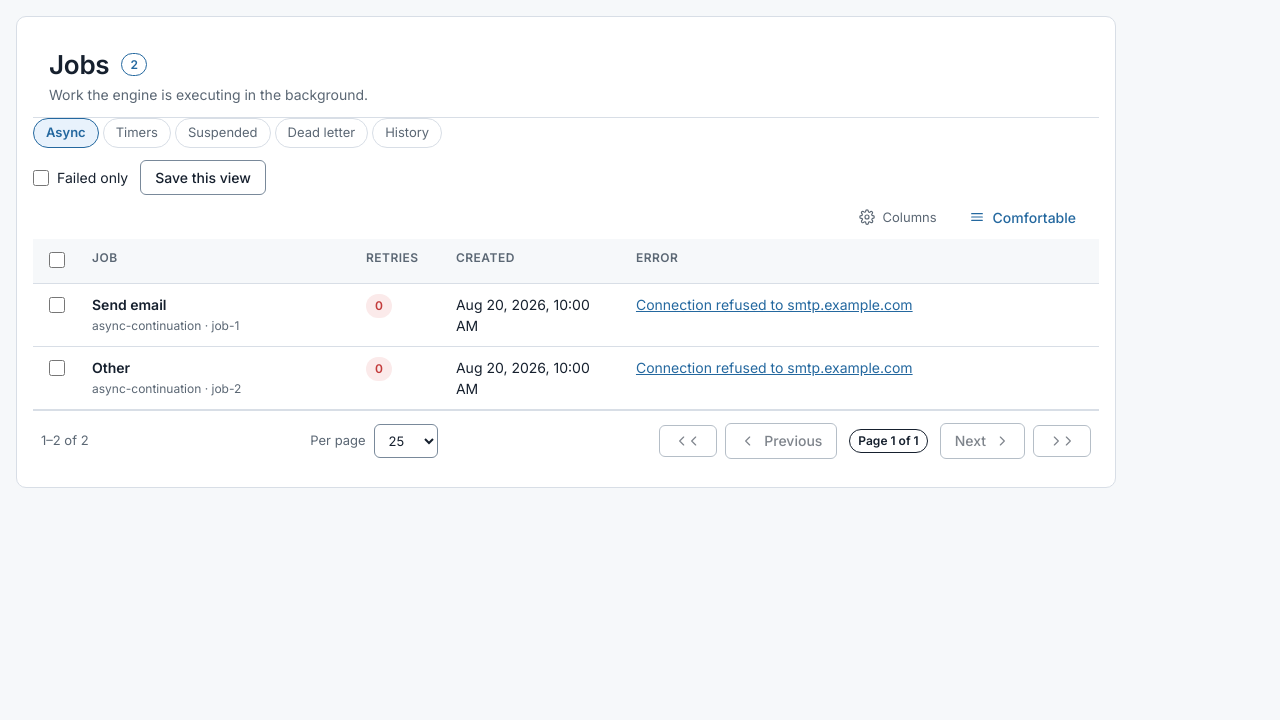
Scenario: Jobs › reports partial failure honestly instead of claiming success
Expected: the text "Send email" is shown, [92,296,166,313]
Click the checkbox named "select all jobs on this page".
click(57, 260)  # box [49,252,65,268]
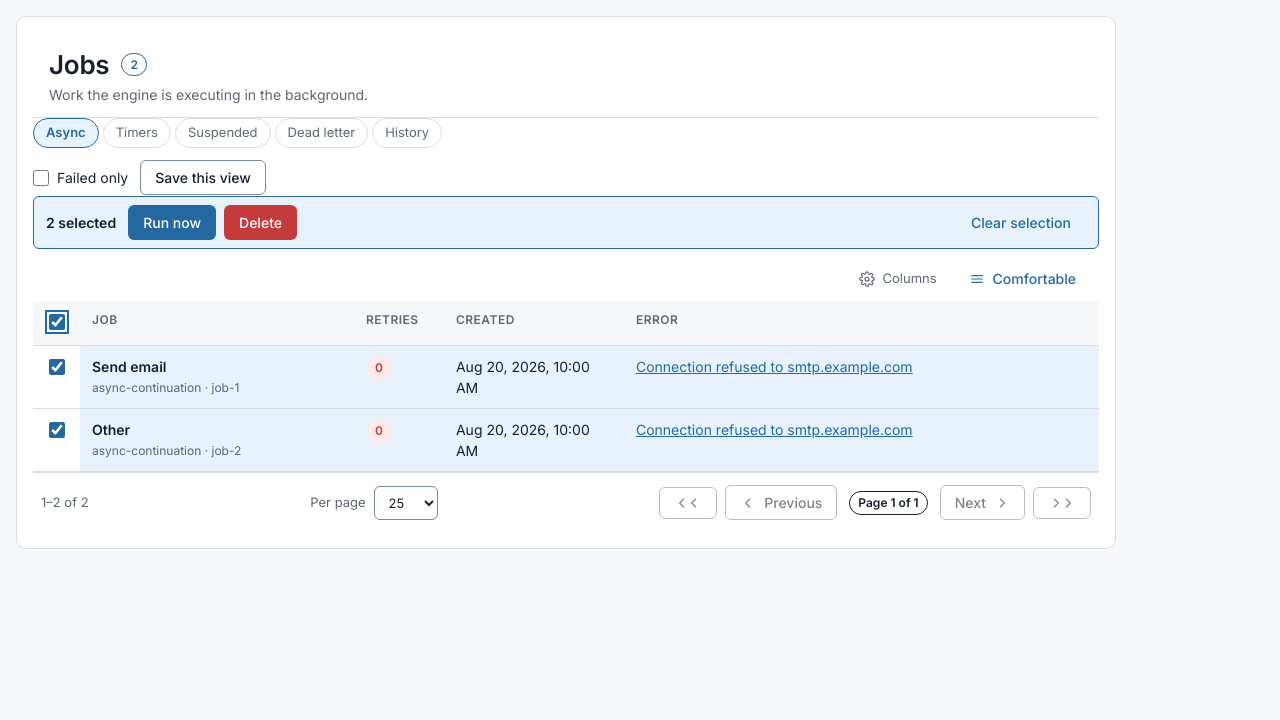
Click the button "Run now".
click(172, 222)  # box [128,205,216,240]
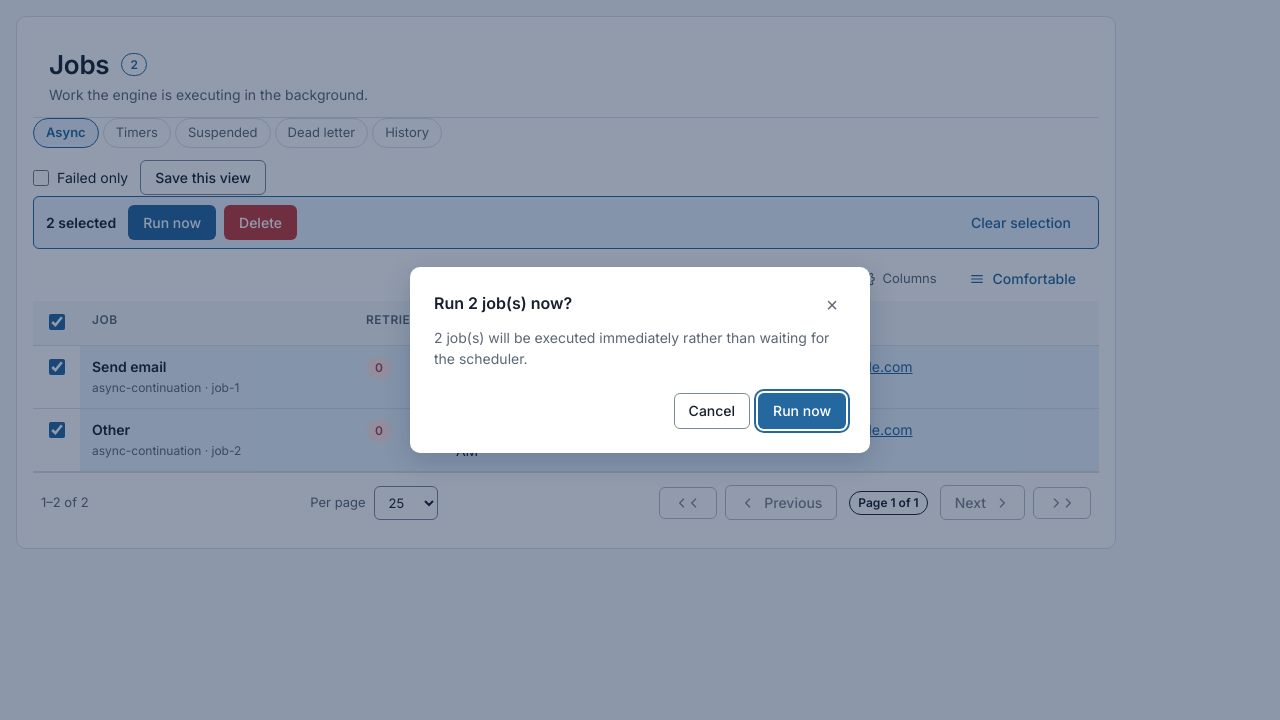
Click the button "Run now".
click(802, 411)  # box [758,393,846,429]
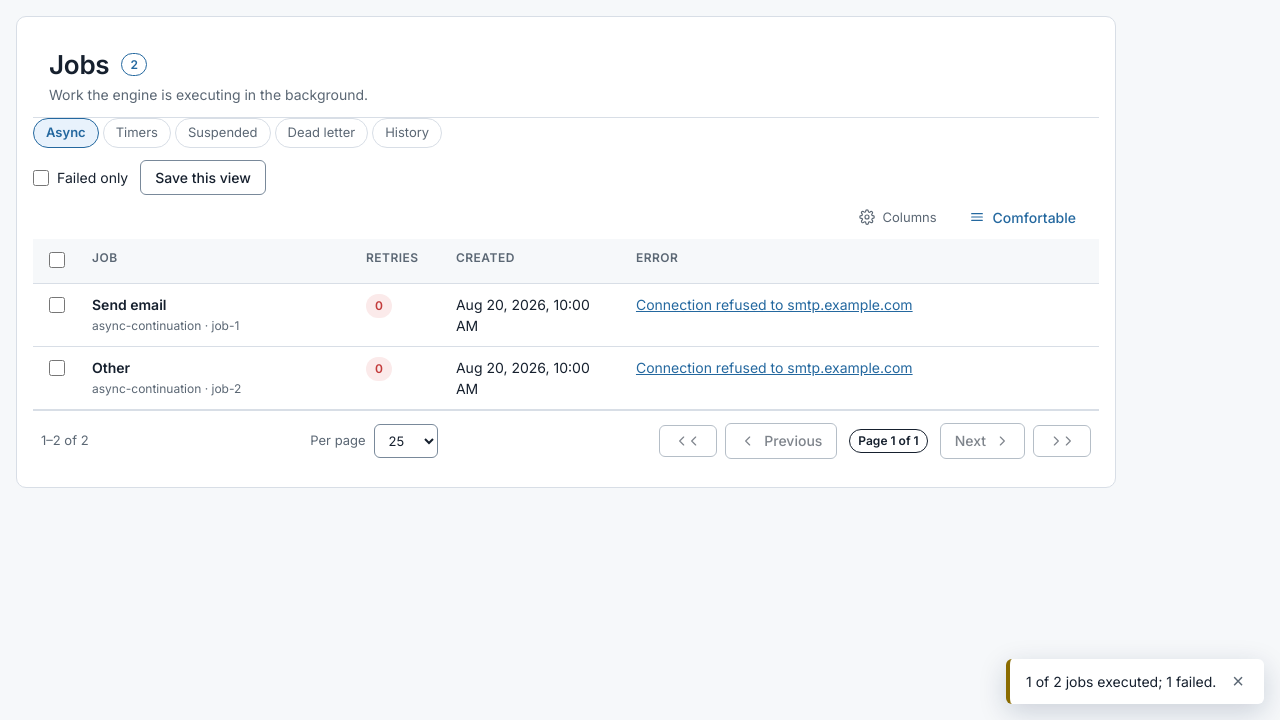
Result: the text "1 of 2 jobs executed; 1 failed." is shown at [1026,671,1216,692]
